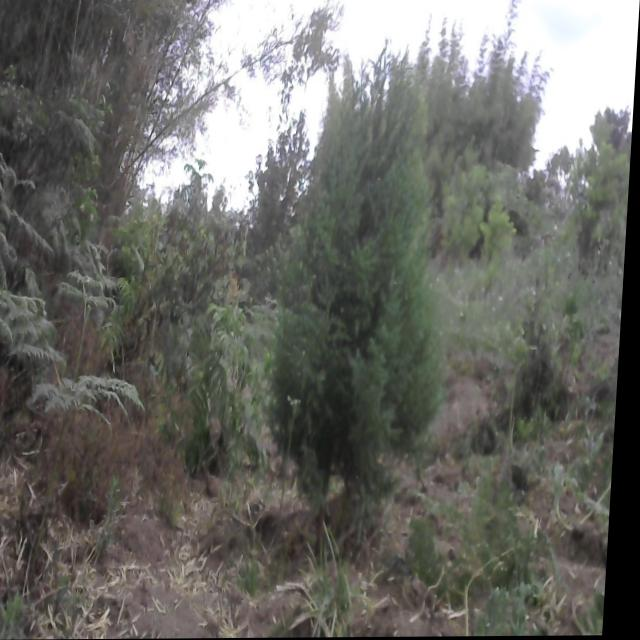cedrus: (269, 66, 470, 537)
